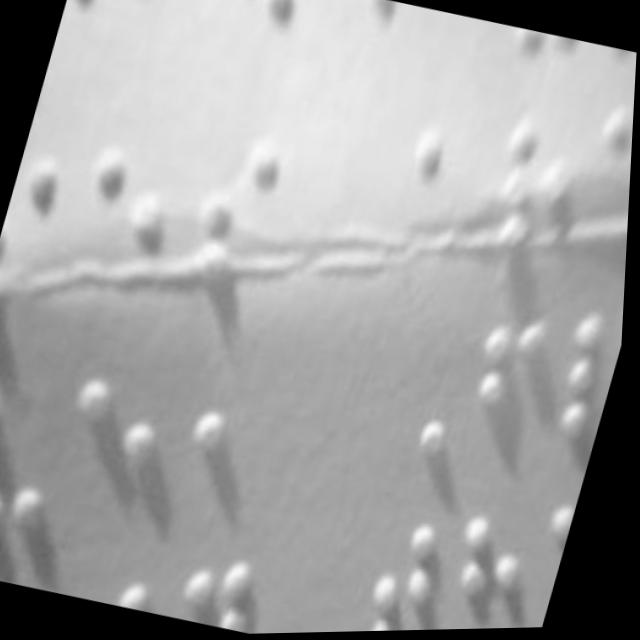braiile: (49, 354, 185, 540), (459, 290, 575, 460), (176, 369, 296, 529), (350, 508, 474, 633), (0, 364, 83, 539), (435, 508, 552, 632), (93, 0, 207, 108), (179, 529, 286, 636), (198, 0, 309, 96), (298, 0, 405, 96), (35, 0, 106, 113), (94, 548, 202, 621), (482, 21, 577, 74)
